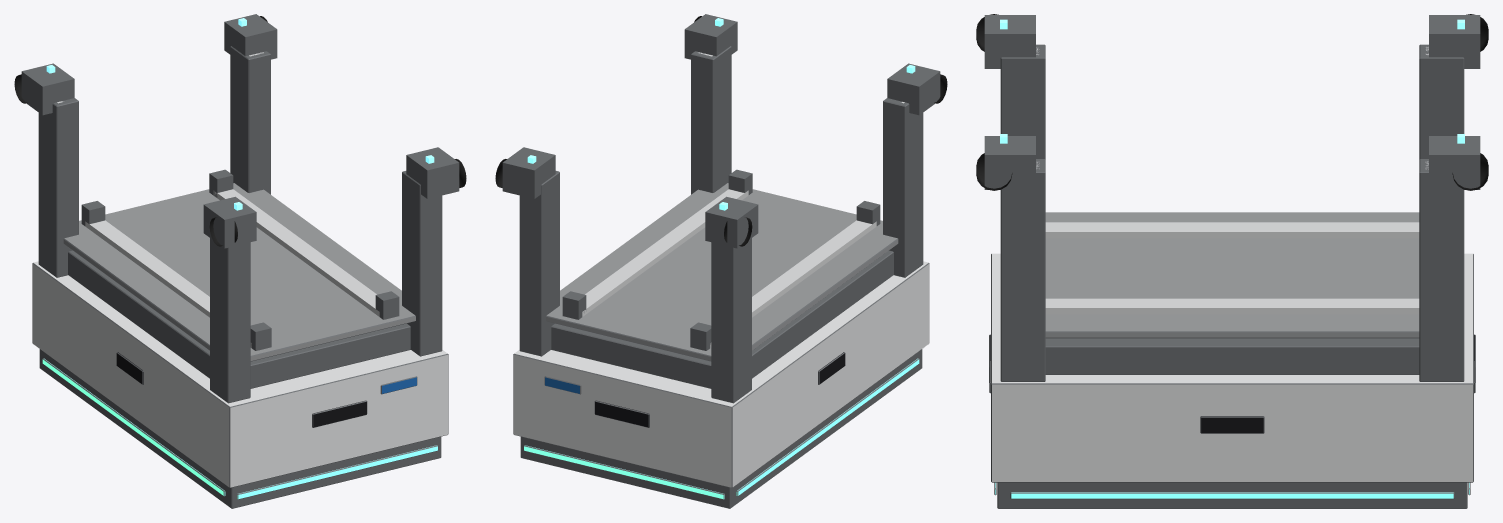
File: haipick_robot.glb
The picture shows the model from 3 angles, left to right: view 1: azimuth 30°, elevation 25°; view 2: azimuth 150°, elevation 25°; view 3: azimuth 270°, elevation 25°; orthographic projection. The views are drawn at different scales.
Parts seen in each view (by area): view 1: HaiClimber_Body, Fork, ArmN, ArmP; view 2: HaiClimber_Body, Fork, ArmP, ArmN; view 3: HaiClimber_Body, Fork, ArmP, ArmN.
Boxes of the visible parts, x1,y1,x2,y2 form: HaiClimber_Body: (32, 46, 448, 508); Fork: (81, 169, 399, 350); ArmN: (203, 147, 466, 248); ArmP: (14, 14, 277, 115); HaiClimber_Body: (513, 46, 929, 508); Fork: (562, 169, 880, 350); ArmP: (495, 147, 758, 248); ArmN: (684, 14, 947, 115); HaiClimber_Body: (989, 44, 1475, 508); Fork: (1045, 222, 1419, 314); ArmP: (1425, 14, 1488, 190); ArmN: (976, 14, 1039, 190).
Bounding box in the file's own units: 0.53 × 0.651 × 0.796.
